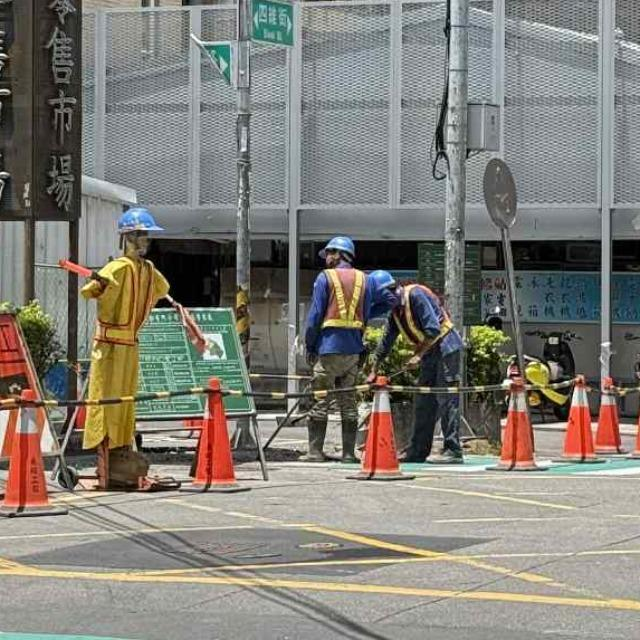Helmet: (313, 233, 363, 264)
Vest: (311, 266, 370, 344)
